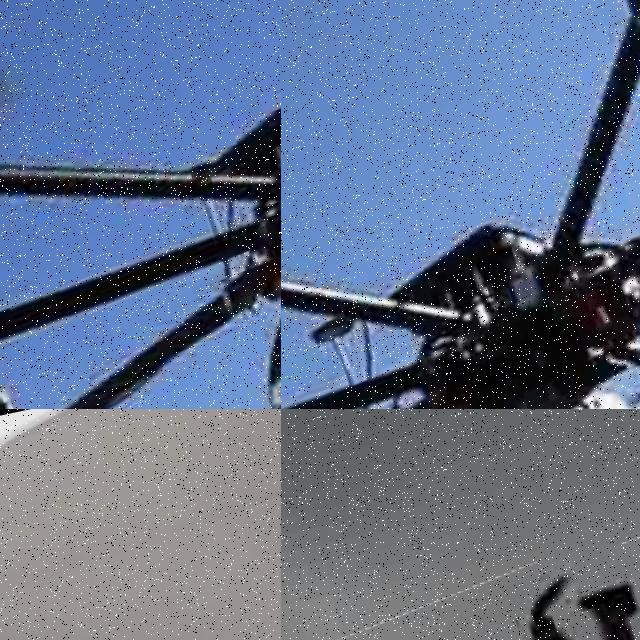0: (281, 0, 640, 409), (0, 0, 281, 409), (302, 519, 640, 640)
drone: (0, 409, 281, 640)
